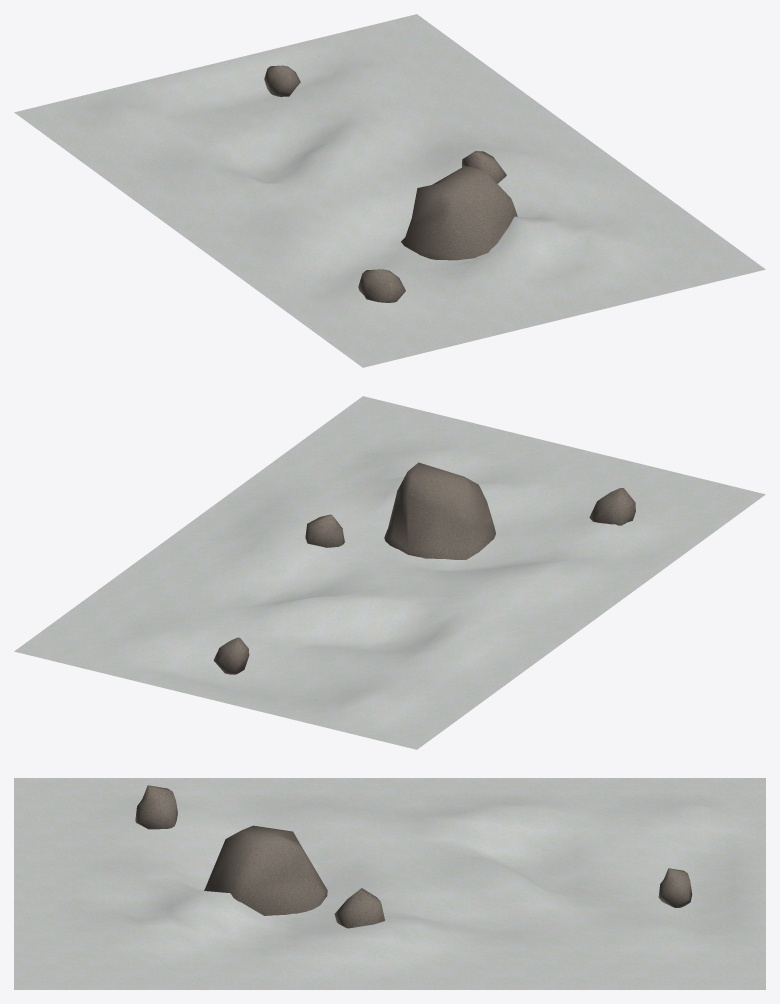
Rendered from bigbox_3.obj.
3 views of the same model, one above another, from view 1: azimuth 30°, elevation 25°; view 2: azimuth 150°, elevation 25°; view 3: azimuth 270°, elevation 25° (orthographic). The views are drawn at different scales.
Visible parts, largest first — view 1: bigbox_3_Cube.116; view 2: bigbox_3_Cube.116; view 3: bigbox_3_Cube.116.
Boxes of the visible parts, box(x1,y1,x2,y2) form: bigbox_3_Cube.116: box(14, 14, 765, 367); bigbox_3_Cube.116: box(14, 396, 765, 749); bigbox_3_Cube.116: box(14, 778, 765, 989).
Size of the model in its own units: 1024 by 239 by 1536.
